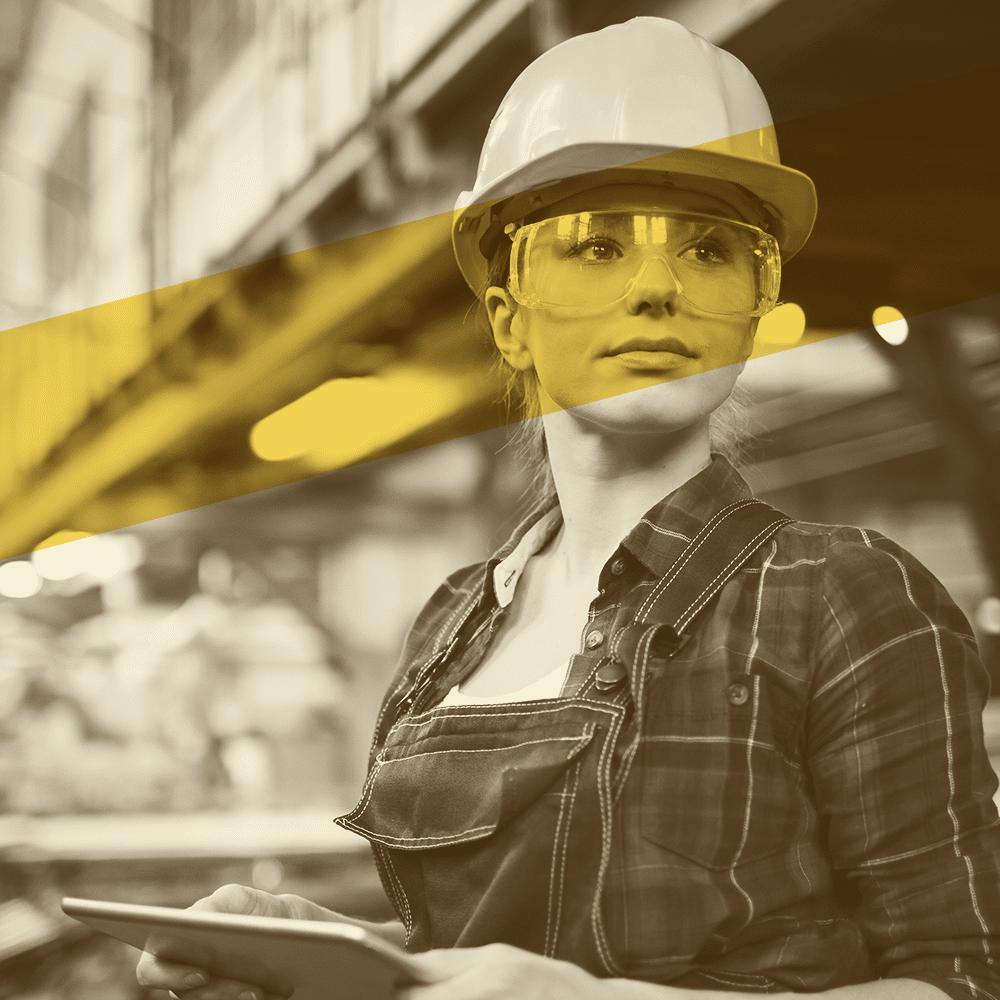hardhat: (457, 18, 816, 280)
worker: (116, 19, 1000, 1000)
